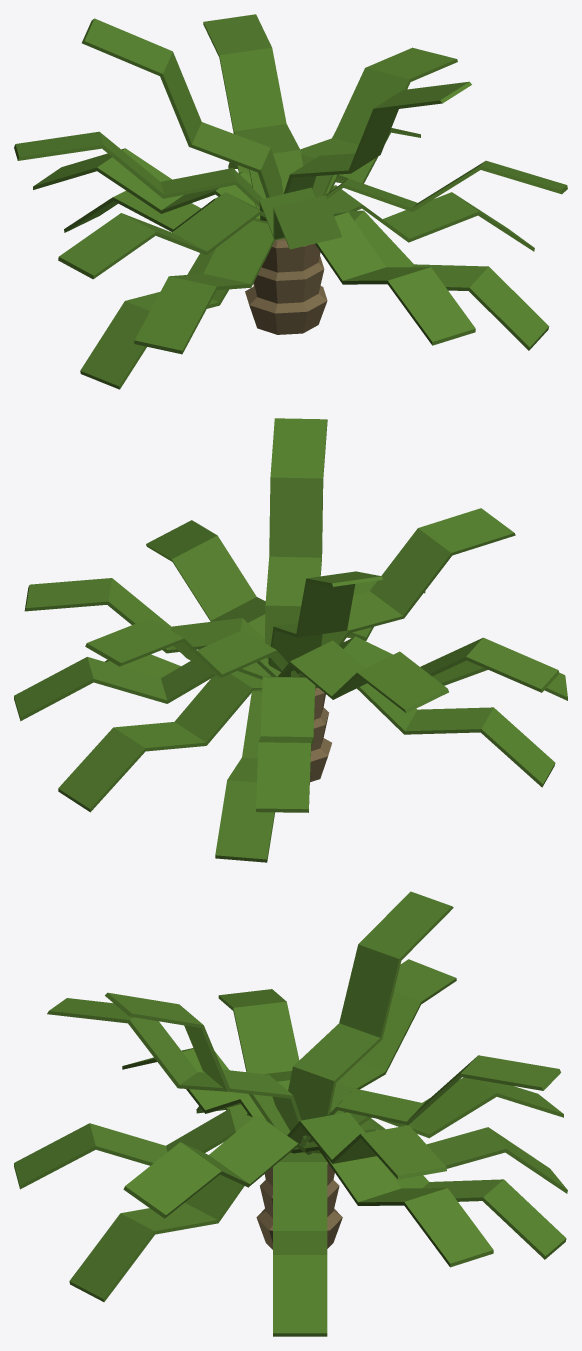
Rendered from palm_bush.fbx.
3 renders of one model, top to bottom at view 1: azimuth 30°, elevation 25°; view 2: azimuth 150°, elevation 25°; view 3: azimuth 270°, elevation 25°, orthographic. The views are drawn at different scales.
Parts seen in each view (by area): view 1: Cube.016; view 2: Cube.016; view 3: Cube.016.
Boxes of the visible parts, bbox=[...] form: Cube.016: bbox=[14, 14, 567, 389]; Cube.016: bbox=[14, 418, 567, 862]; Cube.016: bbox=[14, 891, 567, 1336].
Size of the model in its own units: 1644 by 909 by 1635.
